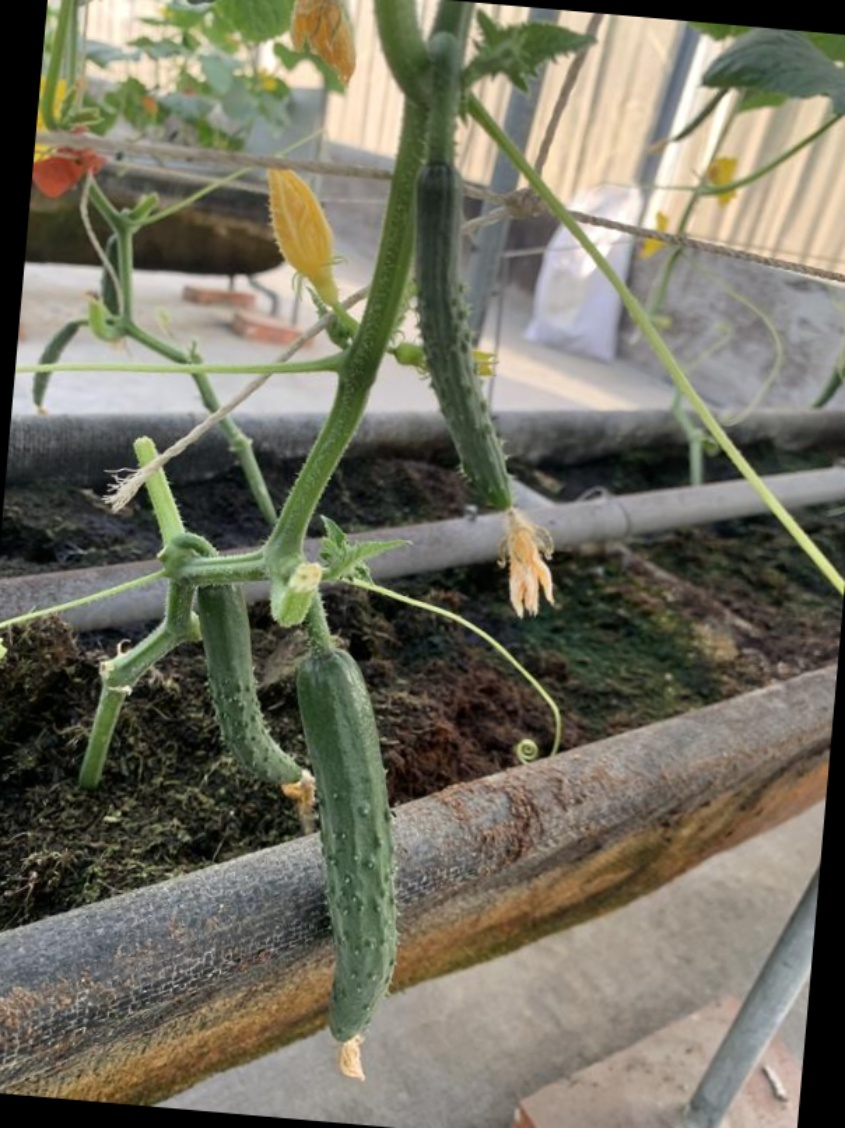growth: (407, 151, 518, 549)
